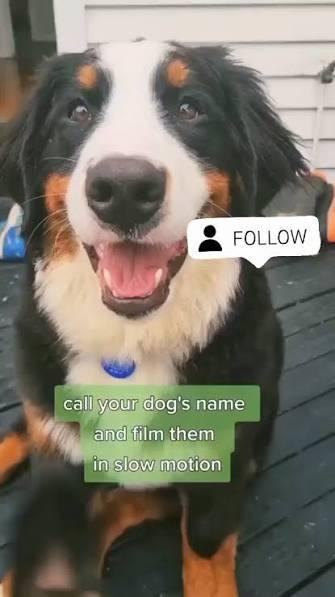adult_dog: (0, 37, 317, 597)
